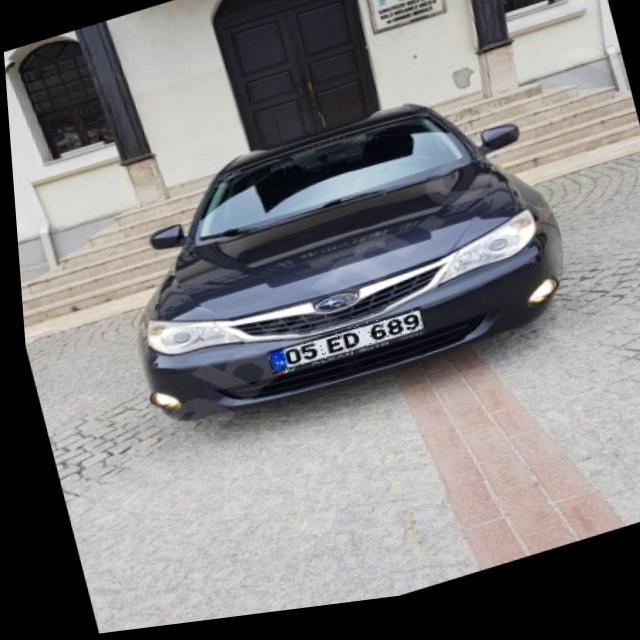license_plate: (259, 316, 421, 381)
